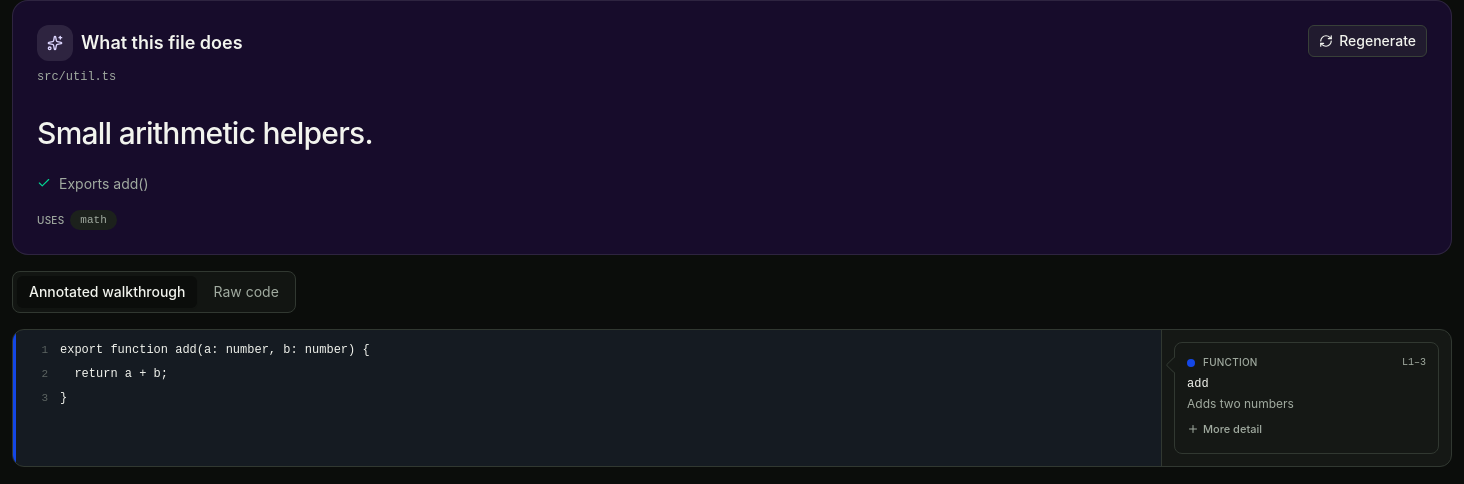
Test: FileAnalysisView › keeps the raw source one toggle away
Expected: the text "Adds two numbers" is shown, [1187,396,1294,411]
Click the tab "Raw code" at [246, 292], box [202,276,291,308]
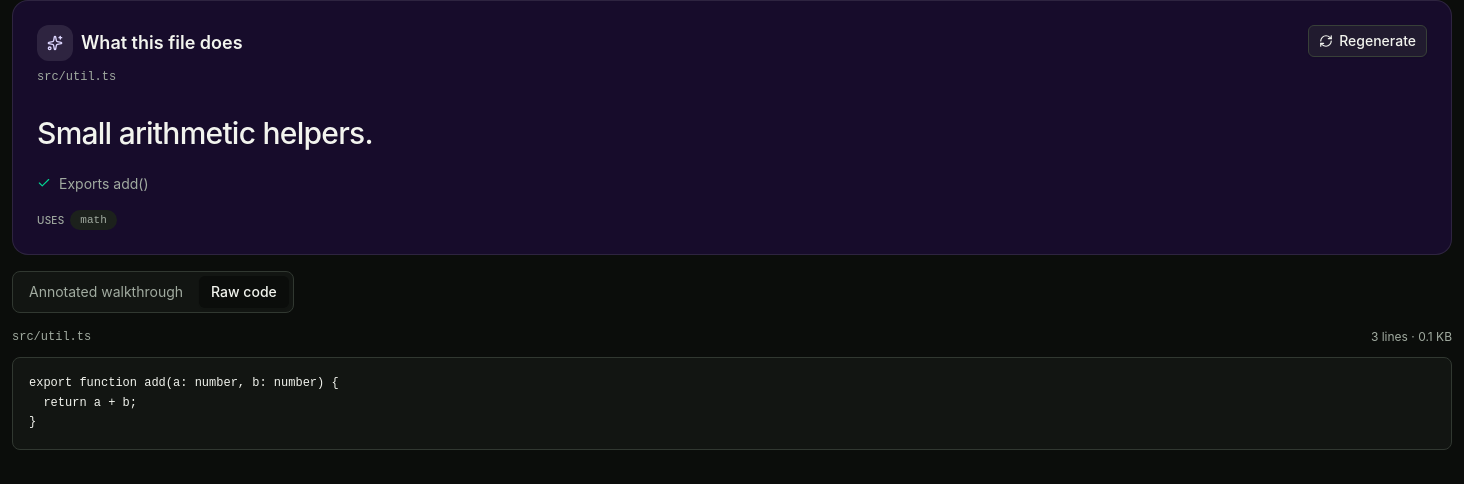
Now the button "Adds two numbers" is gone
